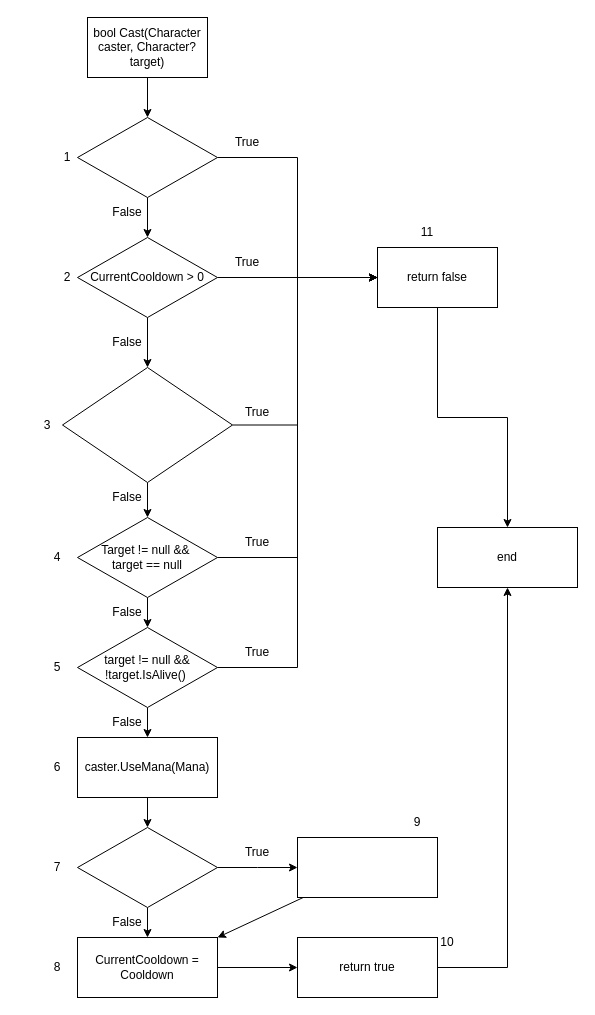
Some shapes in this 595 by 1015 pixel diagram are drawn without their labels. Here are the shapes that lost their labels. From the top down, the box of each, then its label:
(76, 116, 218, 198): !caster.IsAlive()
(62, 366, 232, 482): !caster.HasEnoughMana (Mana)
(76, 826, 218, 908): target != null && Damage > 0
(296, 836, 438, 898): target.TakeDamage (Damage)
